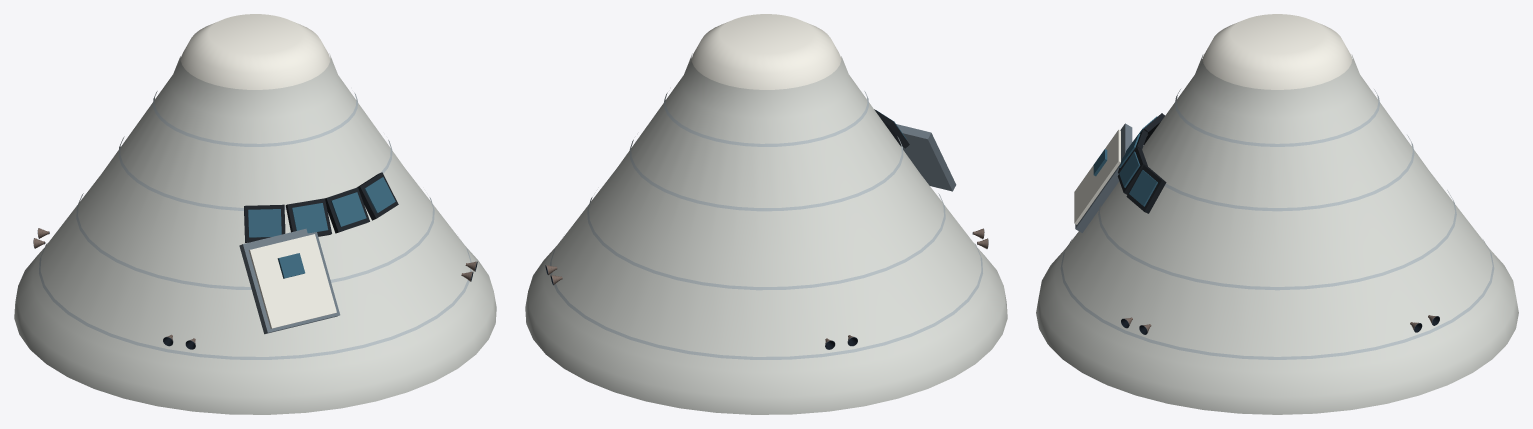
File: orion_cm.glb
The picture shows the model from 3 angles, left to right: view 1: azimuth 30°, elevation 25°; view 2: azimuth 150°, elevation 25°; view 3: azimuth 270°, elevation 25°; orthographic projection.
Visible parts, largest first — view 1: orion_cm.mesh_Pale_thermal_blanket, orion_cm.forward_cover.mesh_Warm_white_enamel, orion_cm.side_hatch.mesh_Warm_white_enamel, orion_cm.mesh_Satin_aluminum, orion_cm.side_hatch.mesh_Machined_steel, orion_cm.window_01.mesh_Coated_optical_glass, orion_cm.window_02.mesh_Coated_optical_glass, orion_cm.window_03.mesh_Coated_optical_glass, orion_cm.window_04.mesh_Coated_optical_glass, orion_cm.window_03.mesh_Carbon_composite, orion_cm.window_04.mesh_Carbon_composite, orion_cm.window_01.mesh_Carbon_composite (+2 smaller); view 2: orion_cm.mesh_Pale_thermal_blanket, orion_cm.forward_cover.mesh_Warm_white_enamel, orion_cm.mesh_Satin_aluminum, orion_cm.side_hatch.mesh_Machined_steel; view 3: orion_cm.mesh_Pale_thermal_blanket, orion_cm.forward_cover.mesh_Warm_white_enamel, orion_cm.mesh_Satin_aluminum, orion_cm.side_hatch.mesh_Warm_white_enamel, orion_cm.side_hatch.mesh_Machined_steel, orion_cm.window_04.mesh_Coated_optical_glass, orion_cm.window_04.mesh_Carbon_composite.
Part boxes in pixels (x1,y1,x2,y2): orion_cm.mesh_Pale_thermal_blanket: (14, 53, 496, 414); orion_cm.forward_cover.mesh_Warm_white_enamel: (180, 14, 330, 89); orion_cm.side_hatch.mesh_Warm_white_enamel: (248, 234, 336, 328); orion_cm.mesh_Satin_aluminum: (39, 91, 471, 359); orion_cm.side_hatch.mesh_Machined_steel: (239, 228, 340, 334); orion_cm.window_01.mesh_Coated_optical_glass: (248, 209, 281, 237); orion_cm.window_02.mesh_Coated_optical_glass: (292, 203, 328, 233); orion_cm.window_03.mesh_Coated_optical_glass: (331, 192, 366, 226); orion_cm.window_04.mesh_Coated_optical_glass: (364, 177, 395, 213); orion_cm.window_03.mesh_Carbon_composite: (325, 187, 369, 233); orion_cm.window_04.mesh_Carbon_composite: (357, 172, 398, 220); orion_cm.window_01.mesh_Carbon_composite: (244, 204, 285, 242); orion_cm.mesh_Pale_thermal_blanket: (525, 53, 1007, 414); orion_cm.forward_cover.mesh_Warm_white_enamel: (691, 14, 841, 89); orion_cm.mesh_Satin_aluminum: (550, 91, 982, 359); orion_cm.side_hatch.mesh_Machined_steel: (896, 124, 956, 191); orion_cm.mesh_Pale_thermal_blanket: (1036, 54, 1518, 414); orion_cm.forward_cover.mesh_Warm_white_enamel: (1202, 14, 1352, 89); orion_cm.mesh_Satin_aluminum: (1060, 89, 1494, 359); orion_cm.side_hatch.mesh_Warm_white_enamel: (1074, 129, 1120, 224); orion_cm.side_hatch.mesh_Machined_steel: (1075, 123, 1132, 232); orion_cm.window_04.mesh_Coated_optical_glass: (1129, 170, 1157, 206); orion_cm.window_04.mesh_Carbon_composite: (1126, 165, 1166, 213).
Bounding box in the file's own units: 5.02 × 3.32 × 5.02.
